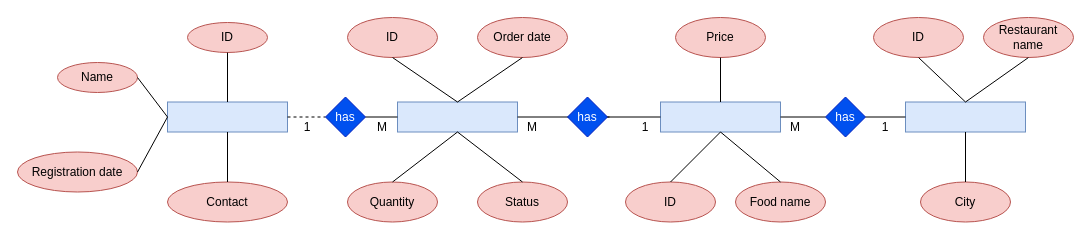
The diagram is 1091 pixels wide and 240 high, and some of its shapes have lost their labels. Here are the shapes that lost their labels. From the top down, the box of each, then its label:
(166, 101, 288, 132): Customer
(396, 101, 518, 132): Order
(660, 101, 780, 132): Food
(904, 101, 1026, 132): Restaurant
